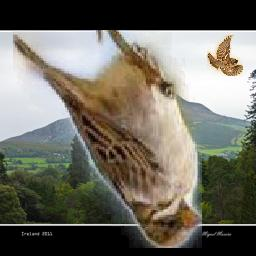Sparrow: (14, 30, 203, 248), (207, 36, 243, 77)
